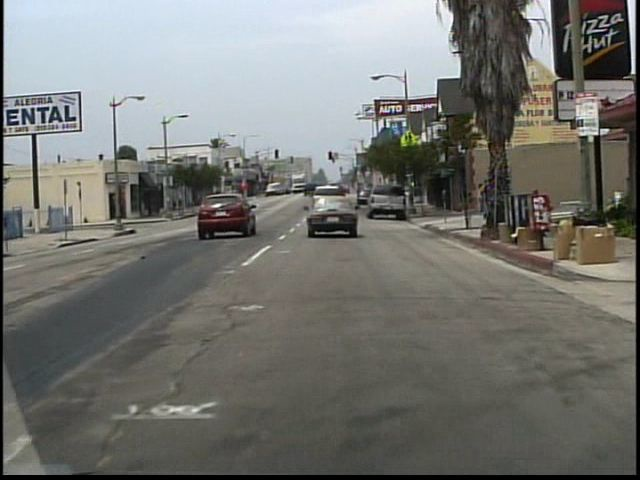person: (485, 179, 496, 215), (476, 183, 485, 213)
